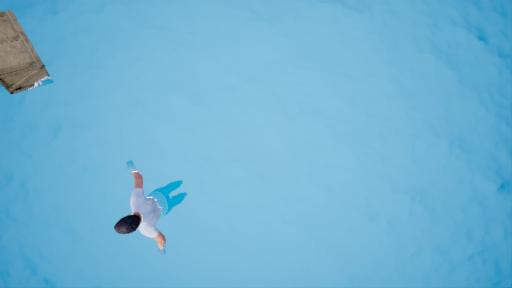person: (105, 163, 187, 252)
